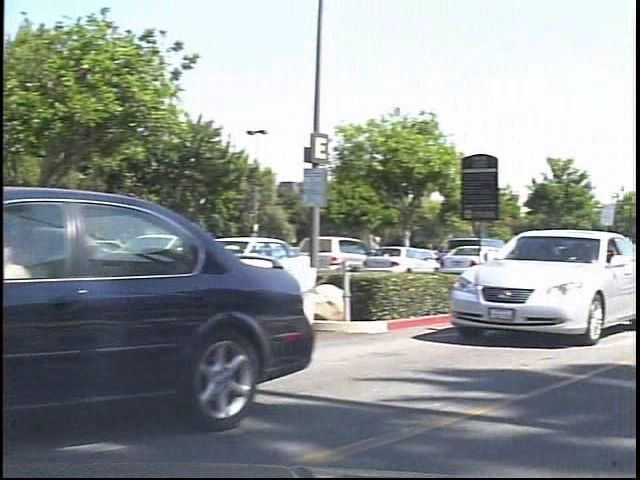person: (374, 230, 401, 282)
